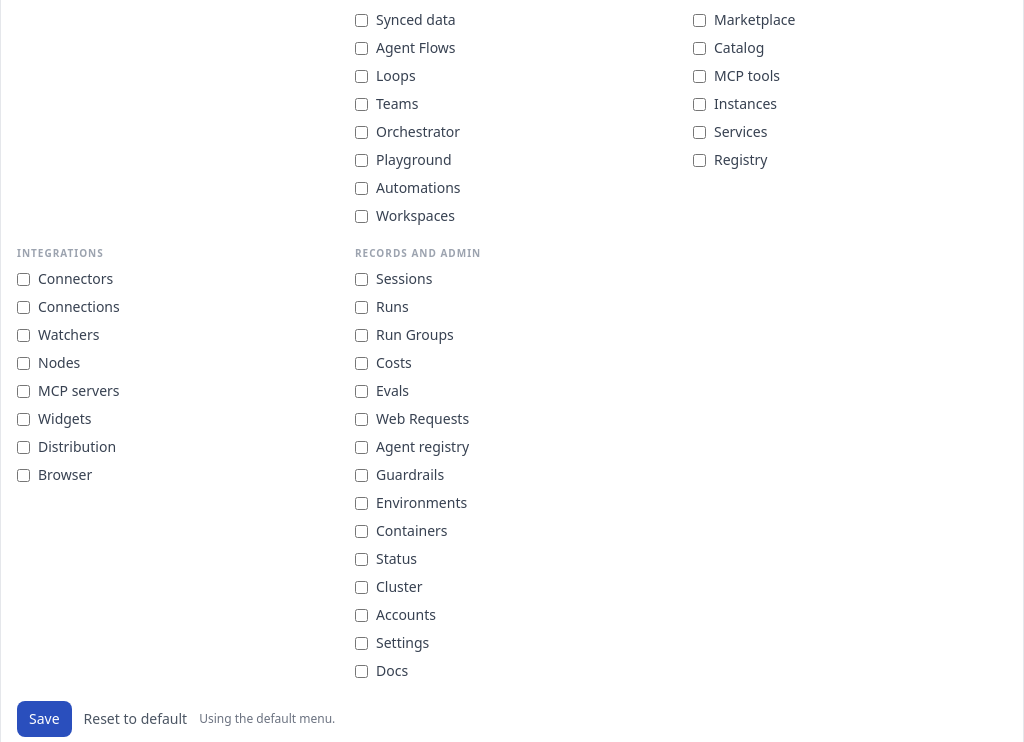
MemberMenuSection › resets to the default with null and shows a refusal
(page scrolled)
Step 1. Click the button "Reset to default" → (135, 719), box [84,709,187,729]
(page scrolled)
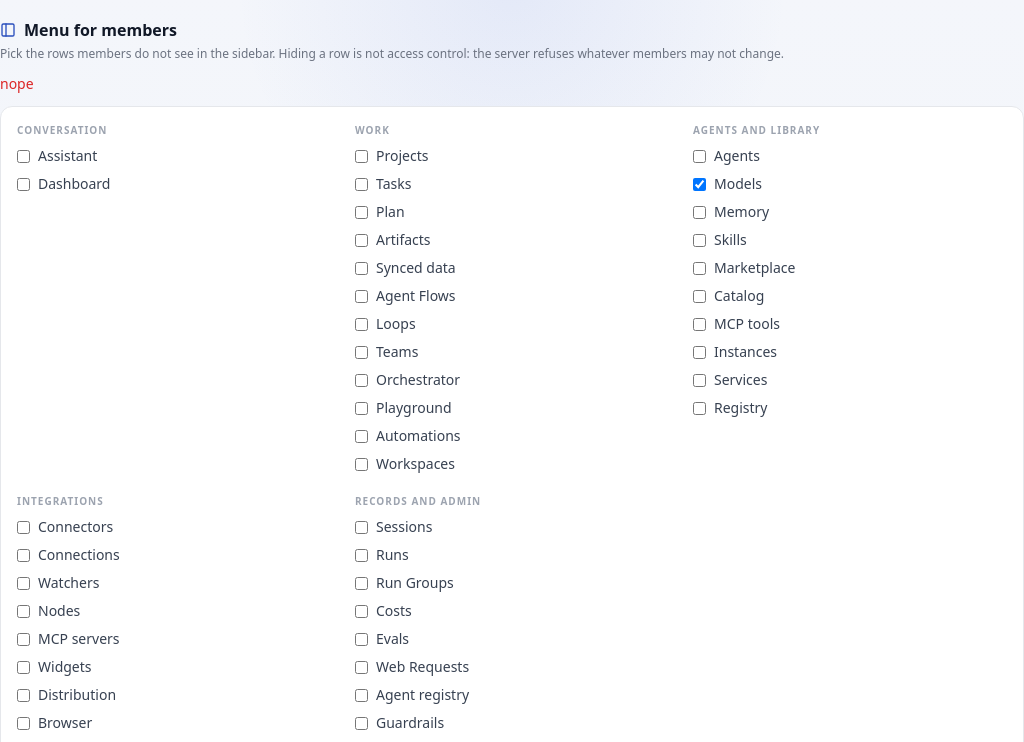
Result: the text "nope" is shown at [0,74,34,93]
